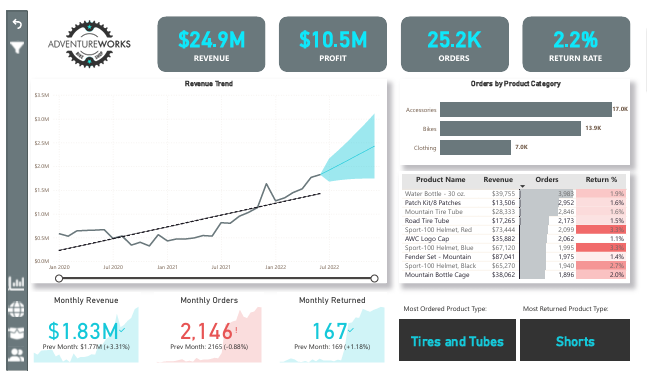

This screenshot's page, from the dashboard's own definition file:
{"tool":"powerbi","page":{"name":"Executive Dashboard","canvas":[1280,720],"ordinal":0},"visuals":[{"type":"image","box":[41,11,248,111],"z":0},{"type":"actionButton","box":[0,525.5,40.9,40],"z":0,"group":"g1"},{"type":"shape","box":[301,11,216,111],"z":1000},{"type":"actionButton","box":[0,578.2,40.9,40],"z":1000,"group":"g1"},{"type":"shape","box":[544.3,11,216,111],"z":2000},{"type":"actionButton","box":[0,625.5,40.9,40],"z":2000,"group":"g1"},{"type":"shape","box":[787.7,11,216,111],"z":3000},{"type":"actionButton","box":[0,668.2,40.9,40],"z":3000,"group":"g1"},{"type":"shape","box":[1031,11,216,111],"z":4000},{"type":"shape","box":[0,0,40.9,720],"z":5000},{"type":"card","fields":{"Values":["_Measure Table.Total Revenue"]},"box":[276,0,266,124],"z":6000},{"type":"card","fields":{"Values":["_Measure Table.Profit"]},"box":[518.7,0,266,124],"z":7000},{"type":"card","fields":{"Values":["_Measure Table.Total Orders"]},"box":[761.3,0,266,124],"z":8000},{"type":"card","fields":{"Values":["_Measure Table.Return Rate"]},"box":[1004,0,266,124],"z":9000},{"type":"lineChart","title":"Revenue Trend","fields":{"Category":["Calendar Lookup.Date Hierarchy.Year","Calendar Lookup.Date Hierarchy.Start of Month","Calendar Lookup.Date Hierarchy.Start of Week","Calendar Lookup.Date Hierarchy.Date"],"Y":["_Measure Table.Total Revenue"]},"box":[49,138,711,408],"z":10000},{"type":"clusteredBarChart","title":"Orders by Product Category","fields":{"Category":["Product Categories Lookup.Category Name"],"Y":["_Measure Table.Total Orders"]},"box":[788,138,459,171],"z":11000},{"type":"tableEx","fields":{"Values":["Product Lookup.Product Name","_Measure Table.Total Revenue","_Measure Table.Total Orders","_Measure Table.Return Rate"]},"box":[785,322,462,224],"z":12000},{"type":"kpi","title":"Monthly Revenue","fields":{"Indicator":["_Measure Table.Total Revenue"],"TrendLine":["Calendar Lookup.Start of Month"],"Goal":["_Measure Table.Previous Month Revenue"]},"box":[49,563,219,145],"z":13000},{"type":"kpi","title":"Monthly Orders","fields":{"TrendLine":["Calendar Lookup.Start of Month"],"Indicator":["_Measure Table.Total Orders"],"Goal":["_Measure Table.Previous Month Order"]},"box":[295,563,219,145],"z":14000},{"type":"kpi","title":"Monthly Returned","fields":{"TrendLine":["Calendar Lookup.Start of Month"],"Goal":["_Measure Table.Previous Month Quantity Returned"],"Indicator":["_Measure Table.Quantity Returned"]},"box":[541,563,219,145],"z":15000},{"type":"card","fields":{"Values":["Min(Product Subcategories Lookup.Subcategory Name)"]},"box":[785,618,233,83],"z":16000},{"type":"textbox","box":[788,582,197,36],"z":17000},{"type":"card","fields":{"Values":["Min(Product Subcategories Lookup.Subcategory Name)"]},"box":[1027,618,220,83],"z":18000},{"type":"textbox","box":[1027,582,197,36],"z":19000},{"type":"actionButton","box":[6.3,10.7,34.9,29.6],"z":20000},{"type":"group","id":"g1","title":"Page Navigation Icon","box":[0,525.5,40.9,182.7],"z":21000},{"type":"actionButton","box":[3.3,54.2,35,37.5],"z":22000}]}

Visuals, with their boxes on the page's 1280x720 design canvas (x1, y1, x2, y2). These are canvas units, not pixel positions in the 649x381 screenshot, which may show the page scaled, cropped or inside an application window:
image: <bbox>41, 11, 289, 122</bbox>
actionButton: <bbox>0, 526, 41, 566</bbox>
shape: <bbox>301, 11, 517, 122</bbox>
actionButton: <bbox>0, 578, 41, 618</bbox>
shape: <bbox>544, 11, 760, 122</bbox>
actionButton: <bbox>0, 626, 41, 666</bbox>
shape: <bbox>788, 11, 1004, 122</bbox>
actionButton: <bbox>0, 668, 41, 708</bbox>
shape: <bbox>1031, 11, 1247, 122</bbox>
shape: <bbox>0, 0, 41, 720</bbox>
card - _Measure Table.Total Revenue: <bbox>276, 0, 542, 124</bbox>
card - _Measure Table.Profit: <bbox>519, 0, 785, 124</bbox>
card - _Measure Table.Total Orders: <bbox>761, 0, 1027, 124</bbox>
card - _Measure Table.Return Rate: <bbox>1004, 0, 1270, 124</bbox>
"Revenue Trend" lineChart: <bbox>49, 138, 760, 546</bbox>
"Orders by Product Category" clusteredBarChart: <bbox>788, 138, 1247, 309</bbox>
tableEx - Product Lookup.Product Name x _Measure Table.Total Revenue: <bbox>785, 322, 1247, 546</bbox>
"Monthly Revenue" kpi: <bbox>49, 563, 268, 708</bbox>
"Monthly Orders" kpi: <bbox>295, 563, 514, 708</bbox>
"Monthly Returned" kpi: <bbox>541, 563, 760, 708</bbox>
card - Min(Product Subcategories Lookup.Subcategory Name): <bbox>785, 618, 1018, 701</bbox>
textbox: <bbox>788, 582, 985, 618</bbox>
card - Min(Product Subcategories Lookup.Subcategory Name): <bbox>1027, 618, 1247, 701</bbox>
textbox: <bbox>1027, 582, 1224, 618</bbox>
actionButton: <bbox>6, 11, 41, 40</bbox>
"Page Navigation Icon" group: <bbox>0, 526, 41, 708</bbox>
actionButton: <bbox>3, 54, 38, 92</bbox>
